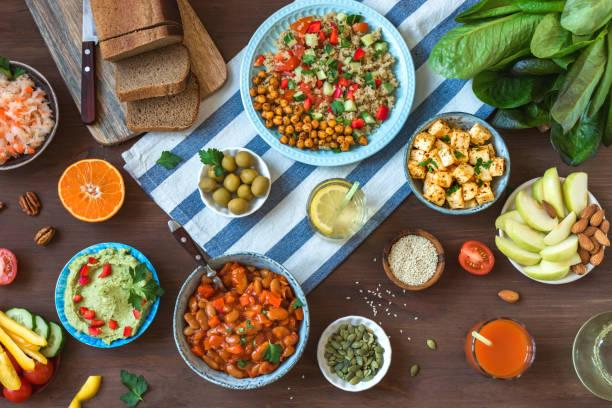Braised Crucian Carp: (239, 1, 412, 168), (172, 251, 305, 390), (497, 175, 606, 282), (54, 242, 159, 348), (404, 112, 507, 214), (0, 58, 59, 170), (316, 315, 393, 391)
